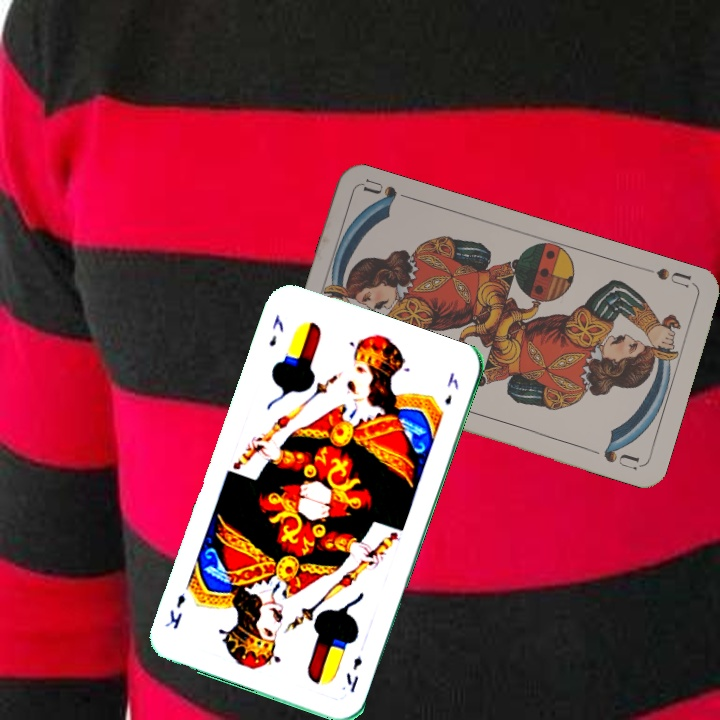EK: (342, 651, 365, 695), (264, 311, 287, 349)
SU: (639, 264, 697, 291)
